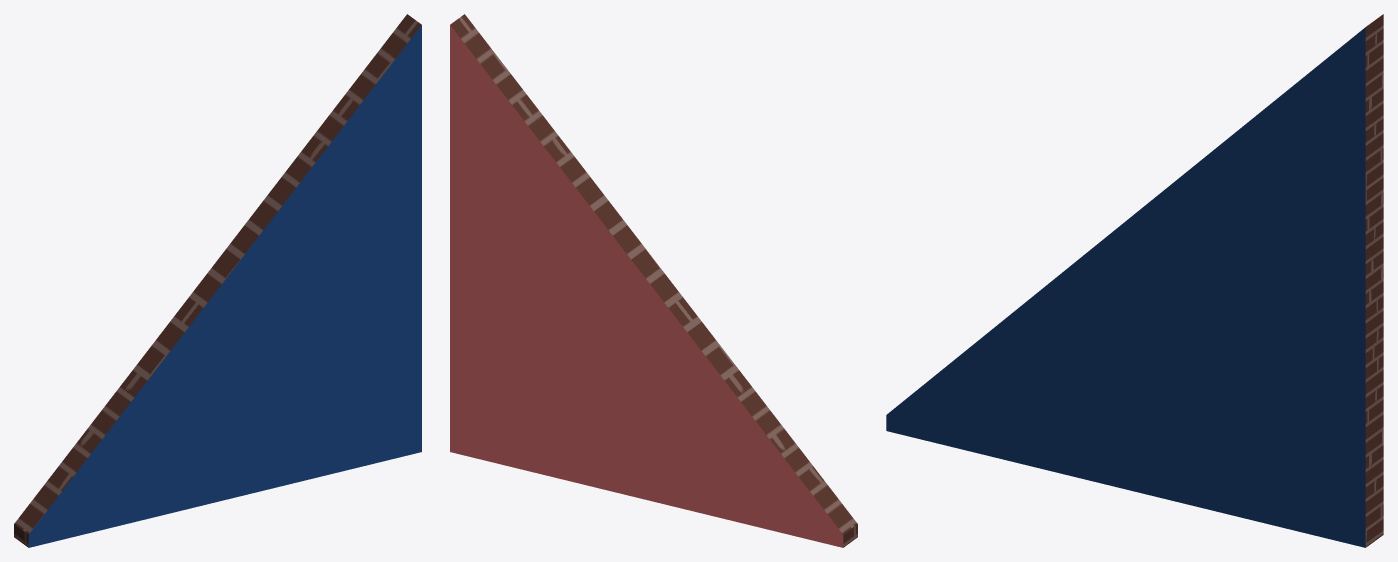
The model's file is wall9.FBX.
3 views of the same model, side by side, from view 1: azimuth 30°, elevation 25°; view 2: azimuth 150°, elevation 25°; view 3: azimuth 330°, elevation 25° (orthographic). The views are drawn at different scales.
Parts seen in each view (by area): view 1: wall9; view 2: wall9; view 3: wall9.
Part boxes in pixels (x1,y1,x2,y2): wall9: (14,14,421,547); wall9: (450,14,857,547); wall9: (886,14,1383,547).
Size of the model in its own units: 775 by 805 by 50.
3 materials, 1 textured.
